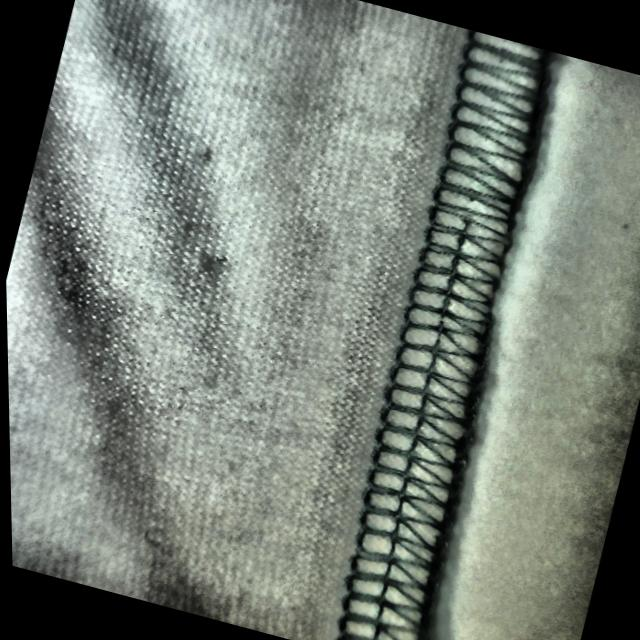Stitch: (365, 26, 566, 404)
